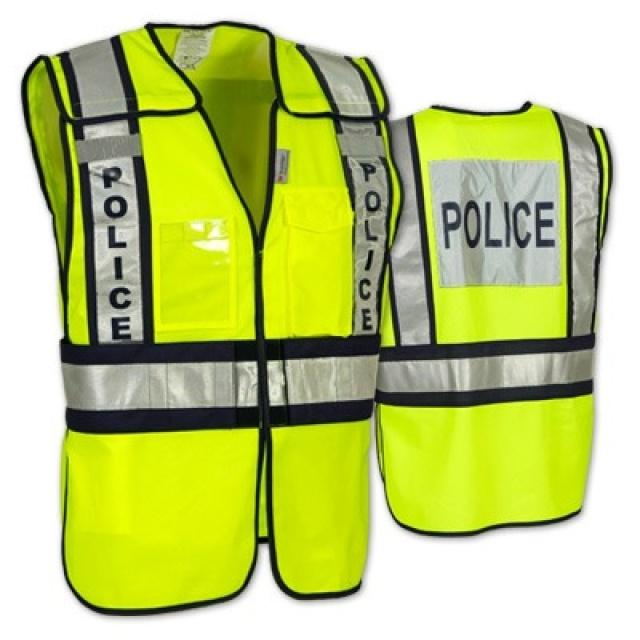vest: (20, 24, 404, 640), (375, 124, 613, 640)
